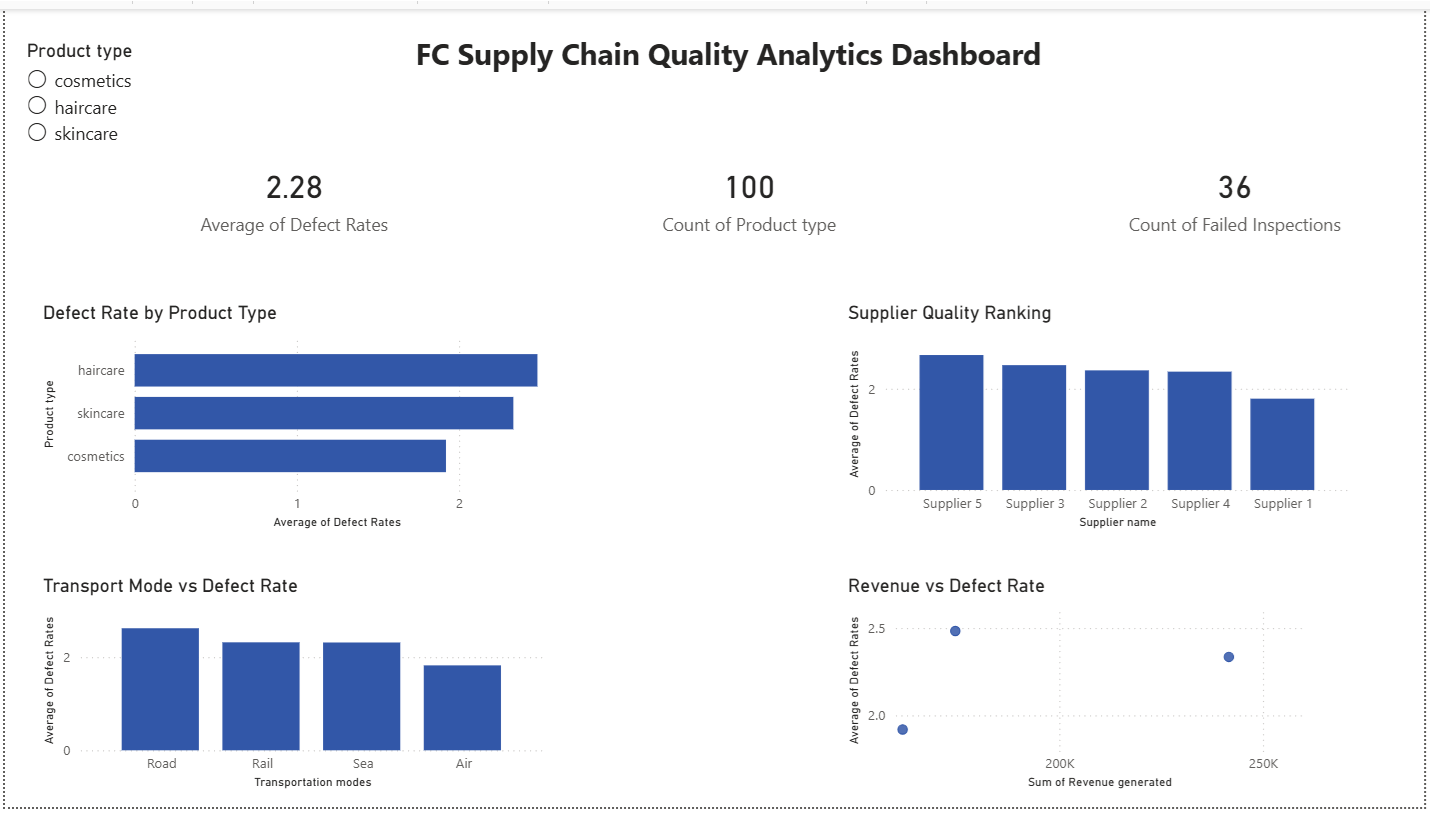

What the dashboard file says about the page in this screenshot:
{"tool":"powerbi","page":{"name":"Supply Chain Quality Analysis","canvas":[1280,720],"ordinal":1},"visuals":[{"type":"card","fields":{"Values":["Avg(supply_chain_data2.Defect rates)"]},"box":[156.4,98.8,208.6,140],"z":0},{"type":"card","fields":{"Values":["CountNonNull(supply_chain_data2.Product type)"]},"box":[564,98.8,215.4,140],"z":1000},{"type":"card","fields":{"Values":["CountNonNull(supply_chain_data2.Inspection results)"]},"box":[986.6,98.8,245.6,140],"z":2000},{"type":"clusteredBarChart","title":"Defect Rate by Product Type","fields":{"Category":["supply_chain_data2.Product type"],"Y":["Avg(supply_chain_data2.Defect rates)"]},"box":[28.8,263.5,462.4,209.9],"z":3000},{"type":"clusteredColumnChart","title":"Supplier Quality Ranking","fields":{"Y":["Avg(supply_chain_data2.Defect rates)"],"Category":["supply_chain_data2.Supplier name"]},"box":[754.7,263.5,462.4,209.9],"z":4000},{"type":"clusteredColumnChart","title":"Transport Mode vs Defect Rate","fields":{"Category":["supply_chain_data2.Transportation modes"],"Y":["Avg(supply_chain_data2.Defect rates)"]},"box":[28.8,509.1,462.4,199],"z":5000},{"type":"scatterChart","title":"Revenue vs Defect Rate","fields":{"Category":["supply_chain_data2.Product type"],"X":["Sum(supply_chain_data2.Revenue generated)"],"Y":["Avg(supply_chain_data2.Defect rates)"]},"box":[754.7,509.1,435,199],"z":6000},{"type":"textbox","box":[365,16.5,591.4,63.1],"z":7000},{"type":"listSlicer","fields":{"Values":["supply_chain_data2.Product type"]},"box":[15.1,27.4,127.6,223.7],"z":8000}]}

Visuals, with their boxes in screenshot pixels (x1, y1, x2, y2), scaled from the page's 1280x720 canvas onto the 1430x816 screenshot:
card - Avg(supply_chain_data2.Defect rates): x1=175 y1=112 x2=408 y2=271
card - CountNonNull(supply_chain_data2.Product type): x1=630 y1=112 x2=871 y2=271
card - CountNonNull(supply_chain_data2.Inspection results): x1=1102 y1=112 x2=1377 y2=271
"Defect Rate by Product Type" clusteredBarChart: x1=32 y1=299 x2=549 y2=537
"Supplier Quality Ranking" clusteredColumnChart: x1=843 y1=299 x2=1360 y2=537
"Transport Mode vs Defect Rate" clusteredColumnChart: x1=32 y1=577 x2=549 y2=803
"Revenue vs Defect Rate" scatterChart: x1=843 y1=577 x2=1329 y2=803
textbox: x1=408 y1=19 x2=1068 y2=90
listSlicer - supply_chain_data2.Product type: x1=17 y1=31 x2=159 y2=285
